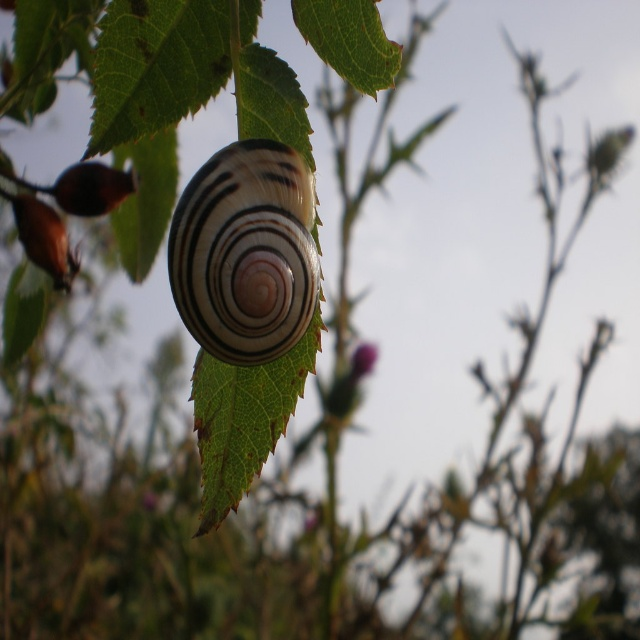Snail: (168, 139, 323, 368)
